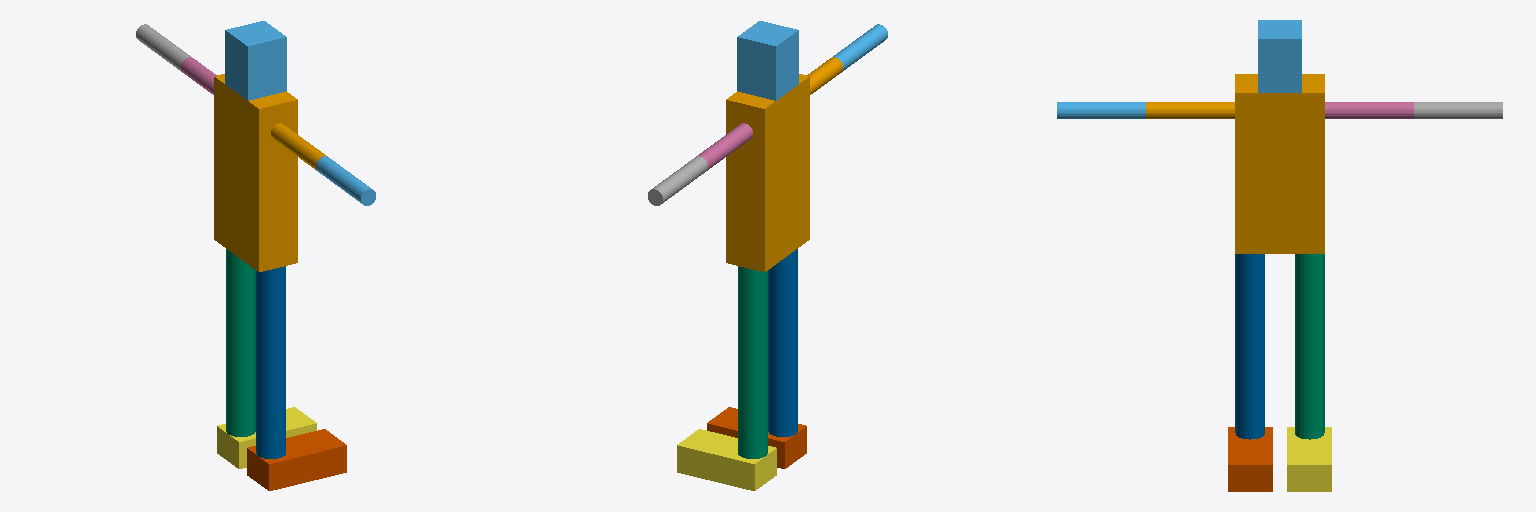
The robot description file, URDF, robot "humanoid":
<?xml version="1.4"?>
<robot name="humanoid">

  <link name="Torso_link">
    <inertial>
        <mass value="10" />
        <inertia ixx="0.375" ixy="0.0" ixz="0.0" iyy="0.31875" iyz="0.0" izz="0.09375"/>
    </inertial>
    <collision>
    <origin rpy="0.0 0.0 0.0" xyz="0.0 0.0 1.1" />
      <geometry>
        <box size="0.15 0.3 0.6" />
      </geometry>
        </collision>
    <visual>
    <origin rpy="0.0 0.0 0.0" xyz="0.0 0.0 1.1" />
      <geometry>
        <box size="0.15 0.3 0.6" />
      </geometry>
    </visual>
  </link>

  <link name="Head_link">
    <inertial>
        <mass value="1" />
        <inertia ixx="0.0375" ixy="0.0" ixz="0.0" iyy="0.031875" iyz="0.0" izz="0.009375"/>
    </inertial>
    <collision>
    <origin rpy="0.0 0.0 0.0" xyz="0.0 0.0 0.1" />
      <geometry>
        <box size="0.15 0.15 0.2" />
      </geometry>
        </collision>
    <visual>
    <origin rpy="0.0 0.0 0.0" xyz="0.0 0.0 0.1" />
      <geometry>
        <box size="0.15 0.15 0.2" />
      </geometry>
    </visual>
  </link>


  <link name="LeftLeg_link">
    <inertial>
        <mass value="10" />
        <inertia ixx="0.53958" ixy="0.0" ixz="0.0" iyy="0.53958" iyz="0.0" izz="0.0125"/>
    </inertial>
    <collision>
    <origin rpy="0.0 0.0 0.0" xyz="0.0 0.0 -0.35"/>
      <geometry>
        <cylinder radius="0.05" length="0.7" />
      </geometry>
    </collision>
    <visual>
    <origin rpy="0.0 0.0 0.0" xyz="0.0 0.0 -0.35" />
      <geometry>
        <cylinder radius="0.05" length="0.7" />
      </geometry>
    </visual>
  </link>

  <link name="LeftFoot_link">
    <inertial>
        <mass value="100" />
        <inertia ixx="0.2708" ixy="0.0" ixz="0.0" iyy="0.8333" iyz="0.0" izz="0.9375"/>
    </inertial>
    <collision>
    <origin rpy="0.0 0.0 0.0" xyz="0.1 0.0 -0.05"/>
      <geometry>
        <box size="0.3 0.15 0.1" />
      </geometry>
    </collision>
    <visual>
    <origin rpy="0.0 0.0 0.0" xyz="0.1 0.0 -0.05"/>
      <geometry>
        <box size="0.3 0.15 0.1" />
      </geometry>
    </visual>
  </link>

  <link name="RightLeg_link">
    <inertial>
        <mass value="10" />
        <inertia ixx="0.53958" ixy="0.0" ixz="0.0" iyy="0.53958" iyz="0.0" izz="0.0125"/>
    </inertial>
    <collision>
    <origin rpy="0.0 0.0 0.0" xyz="0.0 -0.0 -0.35" />
      <geometry>
        <cylinder radius="0.05" length="0.7" />
      </geometry>
    </collision>
    <visual>
    <origin rpy="0.0 0.0 0.0" xyz="0.0 -0.0 -0.35" />
      <geometry>
        <cylinder radius="0.05" length="0.7" />
      </geometry>
    </visual>
  </link>

  <link name="RightFoot_link">
    <inertial>
        <mass value="100" />
        <inertia ixx="0.2708" ixy="0.0" ixz="0.0" iyy="0.8333" iyz="0.0" izz="0.9375"/>
    </inertial>
    <collision>
    <origin rpy="0.0 0.0 0.0" xyz="0.1 0.0 -0.05"/>
      <geometry>
        <box size="0.3 0.15 0.1" />
      </geometry>
    </collision>
    <visual>
    <origin rpy="0.0 0.0 0.0" xyz="0.1 0.0 -0.05"/>
      <geometry>
        <box size="0.3 0.15 0.1" />
      </geometry>
    </visual>
  </link>

  <link name="LeftUpperArm_link">
    <inertial>
        <mass value="1" />
        <inertia ixx="0.007725" ixy="0.0" ixz="0.0" iyy="0.007725" iyz="0.0" izz="0.00045"/>
    </inertial>
    <collision>
    <origin rpy="1.5708 0.0 0.0" xyz="0.0 0.15 0.0" />
      <geometry>
        <cylinder radius="0.03" length="0.3" />
      </geometry>
    </collision>
    <visual>
    <origin rpy="1.5708 0.0 0.0" xyz="0.0 0.15 0.0" />
      <geometry>
        <cylinder radius="0.03" length="0.3" />
      </geometry>
    </visual>
  </link>

  <link name="LeftForeArm_link">
    <inertial>
        <mass value="1" />
        <inertia ixx="0.007725" ixy="0.0" ixz="0.0" iyy="0.007725" iyz="0.0" izz="0.00045"/>
    </inertial>
    <collision>
    <origin rpy="1.5708 0.0 0.0" xyz="0.0 0.15 0.0" />
      <geometry>
        <cylinder radius="0.03" length="0.3" />
      </geometry>
    </collision>
    <visual>
    <origin rpy="1.5708 0.0 0.0" xyz="0.0 0.15 0.0" />
      <geometry>
        <cylinder radius="0.03" length="0.3" />
      </geometry>
    </visual>
  </link>

  <link name="RightUpperArm_link">
    <inertial>
        <mass value="1" />
        <inertia ixx="0.007725" ixy="0.0" ixz="0.0" iyy="0.007725" iyz="0.0" izz="0.00045"/>
    </inertial>
    <collision>
    <origin rpy="1.5708 0.0 0.0" xyz="0.0 -0.15 0.0" />
      <geometry>
        <cylinder radius="0.03" length="0.3" />
      </geometry>
    </collision>
    <visual>
    <origin rpy="1.5708 0.0 0.0" xyz="0.0 -0.15 0.0" />
      <geometry>
        <cylinder radius="0.03" length="0.3" />
      </geometry>
    </visual>
  </link>

  <link name="RightForeArm_link">
    <inertial>
        <mass value="1" />
        <inertia ixx="0.007725" ixy="0.0" ixz="0.0" iyy="0.007725" iyz="0.0" izz="0.00045"/>
    </inertial>
    <collision>
    <origin rpy="1.5708 0.0 0.0" xyz="0.0 -0.15 0.0" />
      <geometry>
        <cylinder radius="0.03" length="0.3" />
      </geometry>
    </collision>
    <visual>
    <origin rpy="1.5708 0.0 0.0" xyz="0.0 -0.15 0.0" />
      <geometry>
        <cylinder radius="0.03" length="0.3" />
      </geometry>
    </visual>
  </link>

  <!-- <joint name="base_to_second_joint" type="continuous">
    <parent link="base_link"/>
    <child link="second_link"/>
    <axis xyz="1 0 0"/>
    <origin xyz="0.0 0.0 0.2" rpy="0.0 0.0 0.0"/> 
  </joint> -->



  <joint name="LeftLeg_joint" type="prismatic">
  <origin xyz="0.0 0.1 0.8" rpy="0.0 0.0 0.0"/> 
    <parent link="Torso_link"/>
    <child link="LeftLeg_link"/>
    <axis xyz="0 0 1"/>
    <limit effort="30000" velocity="100.0" lower="-0.3" upper="0.3" />
    <dnamics damping="0.0" friction="0.0" />
  </joint>

  <joint name="RightLeg_joint" type="prismatic">
  <origin xyz="0.0 -0.1 0.8" rpy="0.0 0.0 0.0"/> 
    <parent link="Torso_link"/>
    <child link="RightLeg_link"/>
    <axis xyz="0 0 1"/>
    <limit effort="30000" velocity="100.0" lower="-0.3" upper="0.3" />
    <dnamics damping="0.0" friction="0.0" />
    <mimic joint="LeftLeg_joint" multiplier="1" offset="0"/>
  </joint>

  <joint name="LeftUpperArm_joint" type="revolute">
  <origin xyz="0.0 0.15 1.3" rpy="0.0 0.0 0.0"/> 
    <parent link="Torso_link"/>
    <child link="LeftUpperArm_link"/>
    <axis xyz="1 0 0"/>
    <limit effort="30" velocity="1.0" lower="-0.0" upper="0.0" />
    <dynamics damping="10.0" friction="0.0"/>
  </joint>

  <joint name="LeftForeArm_joint" type="revolute">
  <origin xyz="0.0 0.3 0.0" rpy="0.0 0.0 0.0"/> 
    <parent link="LeftUpperArm_link"/>
    <child link="LeftForeArm_link"/>
    <axis xyz="1 0 0"/>
    <limit effort="30" velocity="1.0" lower="-0.0" upper="0.0" />
  </joint>

  <joint name="RightUpperArm_joint" type="revolute" >
  <origin xyz="0.0 -0.15 1.3" rpy="0.0 0.0 0.0"/> 
    <parent link="Torso_link"/>
    <child link="RightUpperArm_link"/>
    <axis xyz="1 0 0"/>
    <limit effort="30" velocity="1.0" lower="-0.0" upper="0.0" />
    <dynamics damping="10.0" friction="0.0"/>
  </joint>

  <joint name="RightForeArm_joint" type="revolute" >
  <origin xyz="0.0 -0.3 0.0" rpy="0.0 0.0 0.0"/> 
    <parent link="RightUpperArm_link"/>
    <child link="RightForeArm_link"/>
    <axis xyz="1 0 0"/>
    <limit effort="30" velocity="1.0" lower="-0.0" upper="0.0" />
  </joint>

  <joint name="Head_joint" type="fixed">
  <origin xyz="0.0 0.0 1.4" rpy="0.0 0.0 0.0"/> 
    <parent link="Torso_link"/>
    <child link="Head_link"/>
    <axis xyz="0 0 1"/>
  </joint>

  <joint name="LeftFoot_joint" type="fixed">
  <origin xyz="0.0 0.0 -0.7" rpy="0.0 0.0 0.0"/> 
    <parent link="LeftLeg_link"/>
    <child link="LeftFoot_link"/>
    <axis xyz="0 0 1"/>
  </joint>

  <joint name="RightFoot_joint" type="fixed">
  <origin xyz="0.0 0.0 -0.7" rpy="0.0 0.0 0.0"/> 
    <parent link="RightLeg_link"/>
    <child link="RightFoot_link"/>
    <axis xyz="0 0 1"/>
  </joint>


   <!--                GAZEBO RELATED PART                             -->

  <!-- ROS Control plugin for Gazebo -->
  <gazebo>
    <plugin name="gazebo_ros_control_humanoid" filename="libgazebo_ros_control.so">
      <robotNamespace>/humanoid</robotNamespace>
      <robotParam>humanoid/robot_description</robotParam>
    </plugin>
  </gazebo>


  <!-- <transmission name="rightleg_trans">
    <type>transmission_interface/SimpleTransmission</type>
    <actuator name="motor1">
      <mechanicalReduction>1</mechanicalReduction>
    </actuator>
    <joint name="RightLeg_joint">
      <hardwareInterface>hardware_interface/VelocityJointInterface</hardwareInterface>
    </joint>
  </transmission> -->

  <transmission name="leftleg_trans">
    <type>transmission_interface/SimpleTransmission</type>
    <actuator name="motor2">
      <mechanicalReduction>1</mechanicalReduction>
    </actuator>
    <joint name="LeftLeg_joint">
      <hardwareInterface>VelocityJointInterface</hardwareInterface>
    </joint>
  </transmission>

</robot>

--- Facts derived from the render (not from the file) ---
3 views of the same robot in one strip: view 1: azimuth 30°, elevation 25°; view 2: azimuth 150°, elevation 25°; view 3: azimuth 270°, elevation 25° (orthographic).
Robot: humanoid — 10 links, 9 joints (4 revolute, 2 prismatic, 3 fixed); root link Torso_link; default pose: all joints at 0.
Links seen in each view (by area): view 1: Torso_link, RightLeg_link, LeftLeg_link, Head_link, RightFoot_link, LeftFoot_link, RightForeArm_link, LeftForeArm_link, RightUpperArm_link, LeftUpperArm_link; view 2: Torso_link, LeftLeg_link, RightLeg_link, Head_link, LeftFoot_link, RightFoot_link, LeftForeArm_link, LeftUpperArm_link, RightForeArm_link, RightUpperArm_link; view 3: Torso_link, LeftLeg_link, RightLeg_link, Head_link, LeftFoot_link, RightFoot_link, LeftUpperArm_link, LeftForeArm_link, RightUpperArm_link, RightForeArm_link.
Boxes of the visible links, left/top/right/bottom form: Torso_link: left=214, top=74, right=297, bottom=271; RightLeg_link: left=256, top=266, right=285, bottom=458; LeftLeg_link: left=226, top=249, right=255, bottom=436; Head_link: left=225, top=21, right=286, bottom=100; RightFoot_link: left=247, top=429, right=346, bottom=490; LeftFoot_link: left=217, top=407, right=316, bottom=468; RightForeArm_link: left=316, top=156, right=375, bottom=205; LeftForeArm_link: left=136, top=24, right=190, bottom=72; RightUpperArm_link: left=271, top=123, right=327, bottom=170; LeftUpperArm_link: left=181, top=57, right=216, bottom=94; Torso_link: left=726, top=74, right=809, bottom=271; LeftLeg_link: left=738, top=266, right=767, bottom=458; RightLeg_link: left=768, top=249, right=797, bottom=436; Head_link: left=737, top=21, right=798, bottom=100; LeftFoot_link: left=677, top=429, right=776, bottom=490; RightFoot_link: left=707, top=407, right=806, bottom=468; LeftForeArm_link: left=648, top=156, right=707, bottom=205; LeftUpperArm_link: left=696, top=123, right=752, bottom=170; RightForeArm_link: left=833, top=24, right=887, bottom=72; RightUpperArm_link: left=807, top=57, right=842, bottom=94; Torso_link: left=1235, top=74, right=1324, bottom=253; LeftLeg_link: left=1295, top=254, right=1324, bottom=439; RightLeg_link: left=1235, top=254, right=1264, bottom=439; Head_link: left=1258, top=20, right=1301, bottom=92; LeftFoot_link: left=1287, top=427, right=1331, bottom=491; RightFoot_link: left=1228, top=427, right=1272, bottom=491; LeftUpperArm_link: left=1325, top=102, right=1413, bottom=118; LeftForeArm_link: left=1414, top=102, right=1502, bottom=118; RightUpperArm_link: left=1146, top=102, right=1234, bottom=118; RightForeArm_link: left=1057, top=102, right=1145, bottom=118.
Size in the robot's own frame: 0.325 by 1.5 by 1.6 metres.
Geometry: primitives only (box / cylinder / sphere), no mesh files.